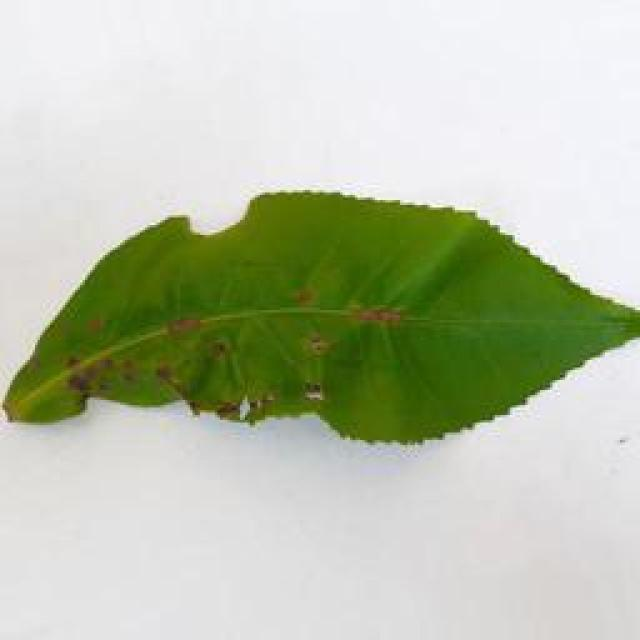Helopeltis: (2, 187, 640, 452)
